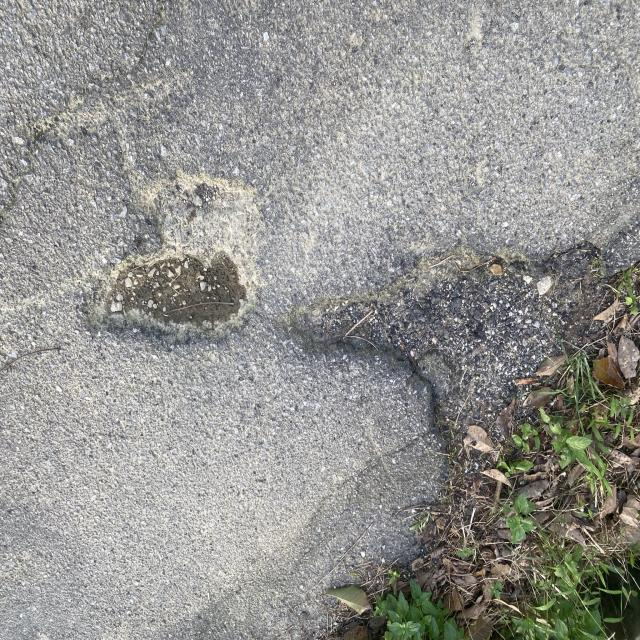Pothole: (284, 198, 636, 483), (56, 183, 72, 190)
